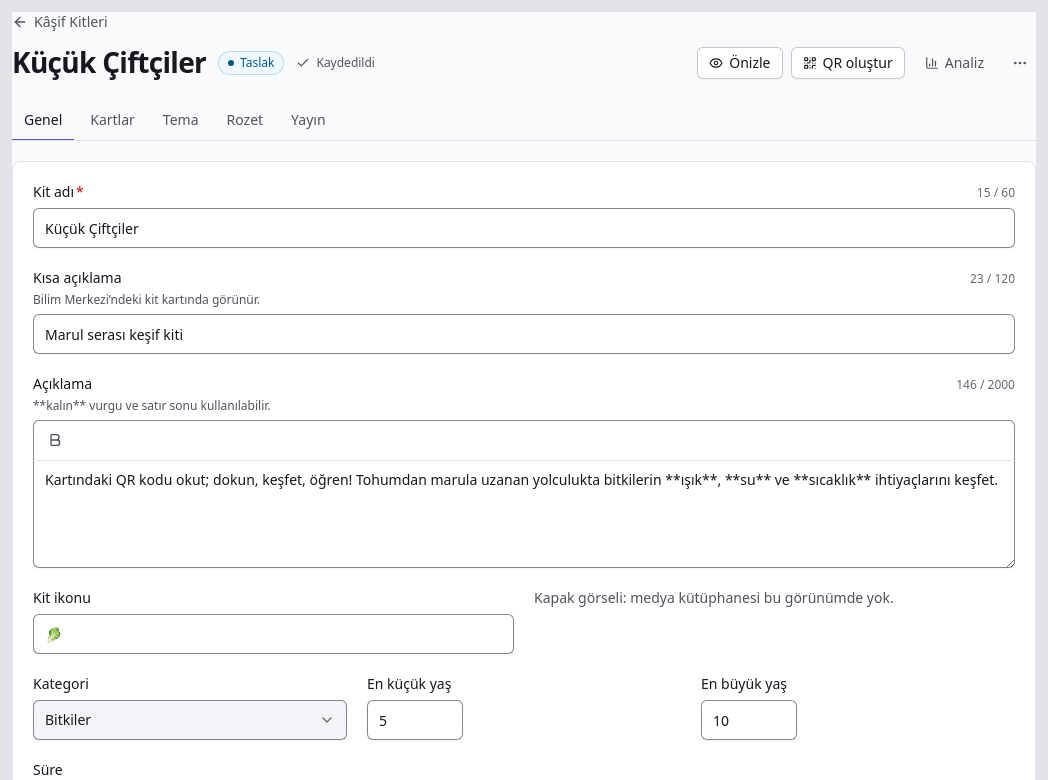
Test: KitEditor › names an untitled kit
Clear the field labelled "Kit adı" at x=524, y=228, box [33, 208, 1015, 248]
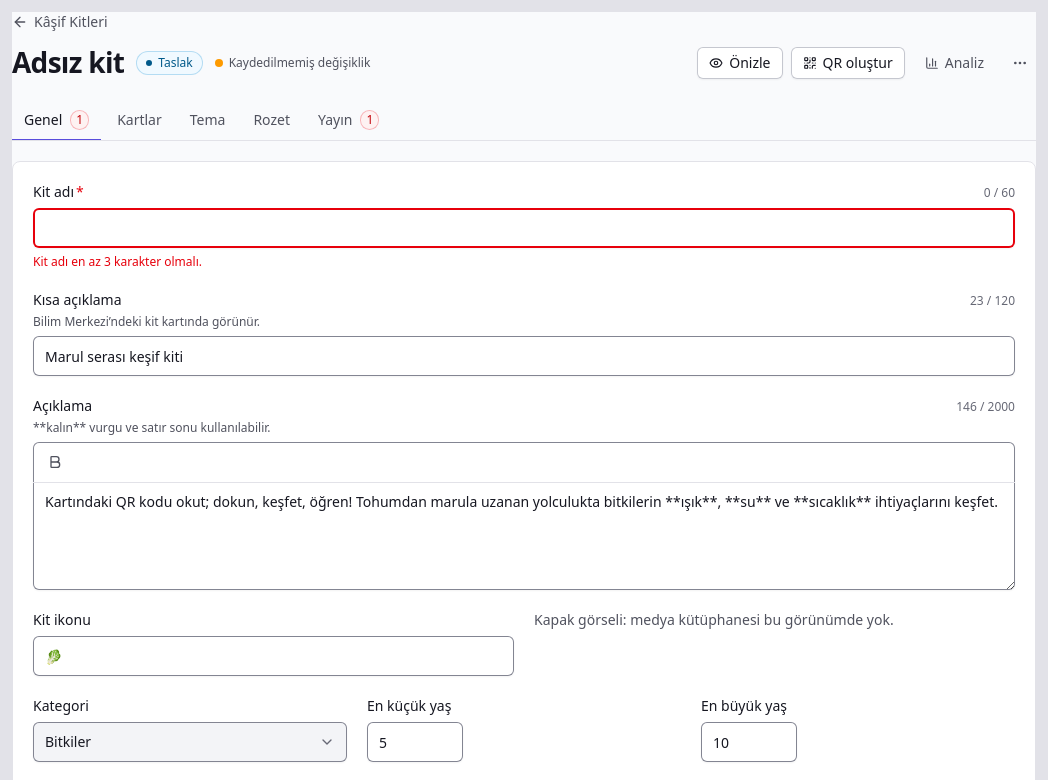
Check: the heading reads "Adsız kit", box [12, 43, 124, 81]
